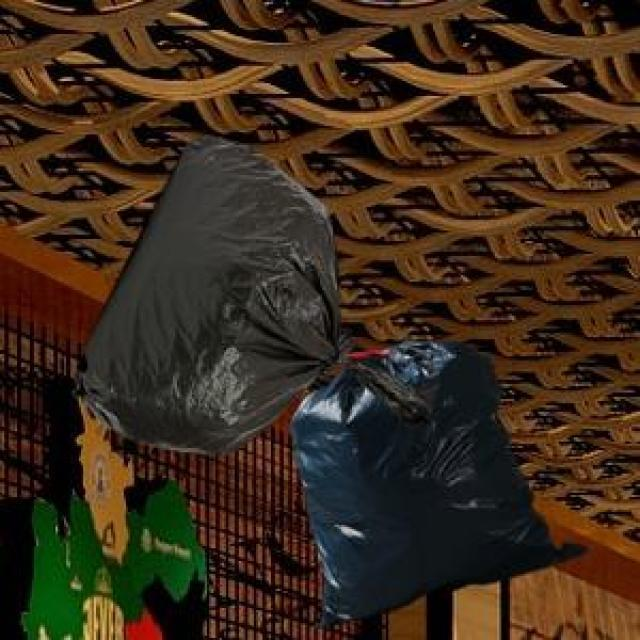waste: (84, 138, 340, 452), (294, 341, 575, 618)
